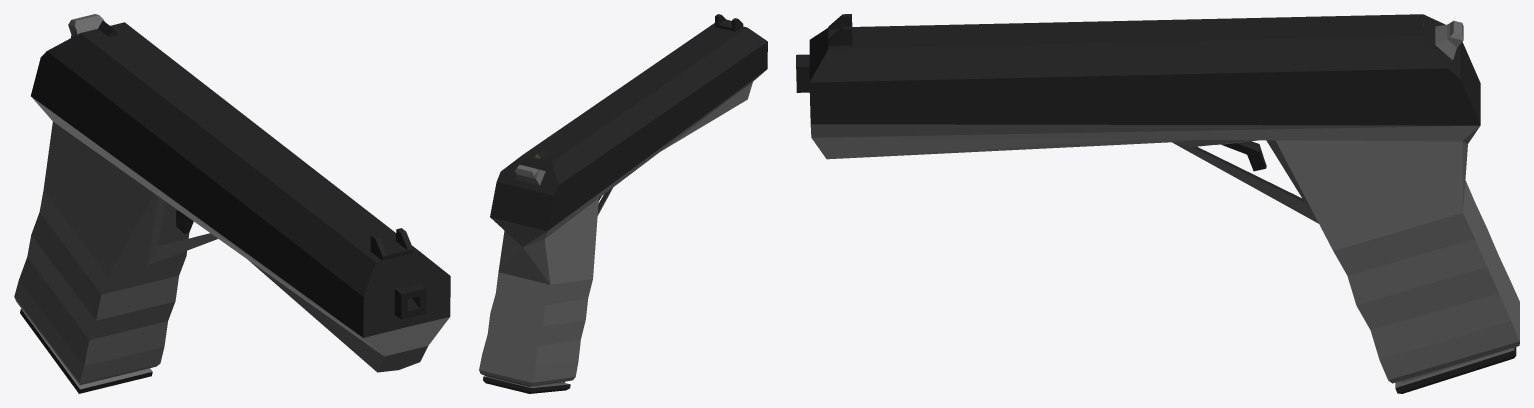
Rendered from gun-reload.glb.
3 renders of one model, left to right at view 1: azimuth 30°, elevation 25°; view 2: azimuth 150°, elevation 25°; view 3: azimuth 270°, elevation 25°, orthographic. The views are drawn at different scales.
Visible parts, largest first — view 1: Cube, Cube.001; view 2: Cube, Cube.001; view 3: Cube, Cube.001.
Part boxes in pixels (x1,y1,x2,y2): Cube: (14, 14, 450, 385); Cube.001: (20, 308, 152, 393); Cube: (479, 14, 767, 386); Cube.001: (483, 376, 570, 393); Cube: (796, 14, 1519, 383); Cube.001: (1395, 347, 1516, 393).
Bounding box in the file's own units: 0.2939 × 1.15 × 2.1.
1 material, 1 textured.
